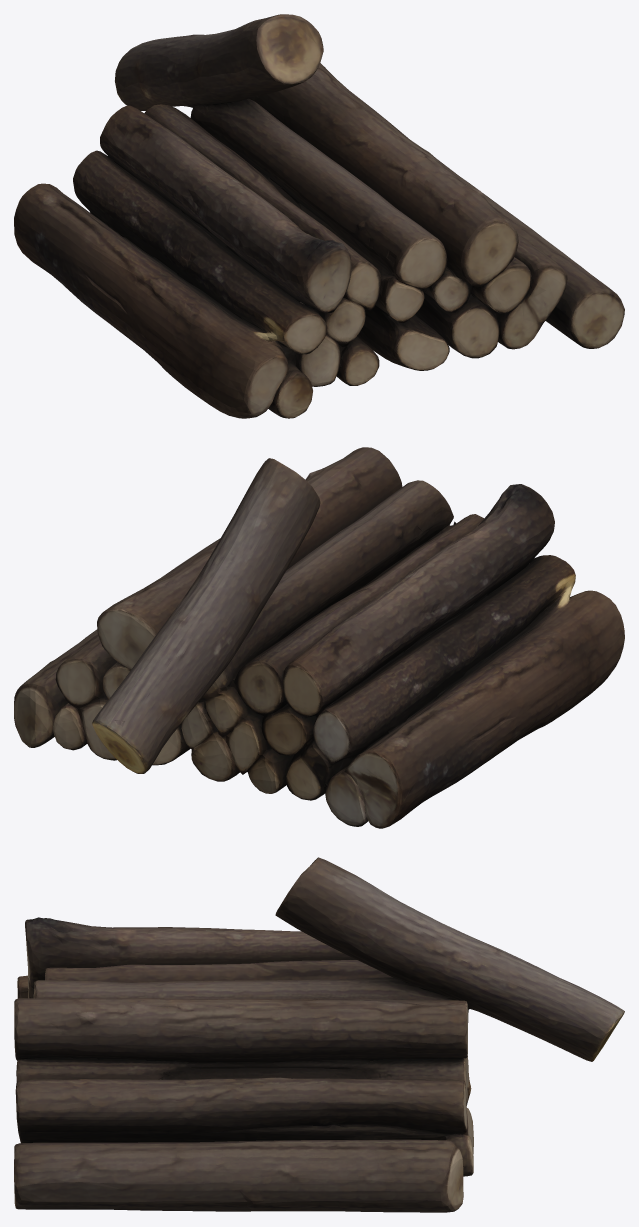
Rendered from cui_lua.glb.
3 renders of one model, top to bottom at view 1: azimuth 30°, elevation 25°; view 2: azimuth 150°, elevation 25°; view 3: azimuth 270°, elevation 25°, orthographic. The views are drawn at different scales.
Parts seen in each view (by area): view 1: world; view 2: world; view 3: world.
Part boxes in pixels (left/top/right/bottom): world: left=14, top=14, right=624, bottom=418; world: left=14, top=447, right=624, bottom=828; world: left=14, top=857, right=624, bottom=1212.
Bounding box in the file's own units: 0.7344 × 0.4782 × 0.9968.
1 material, 1 textured.
